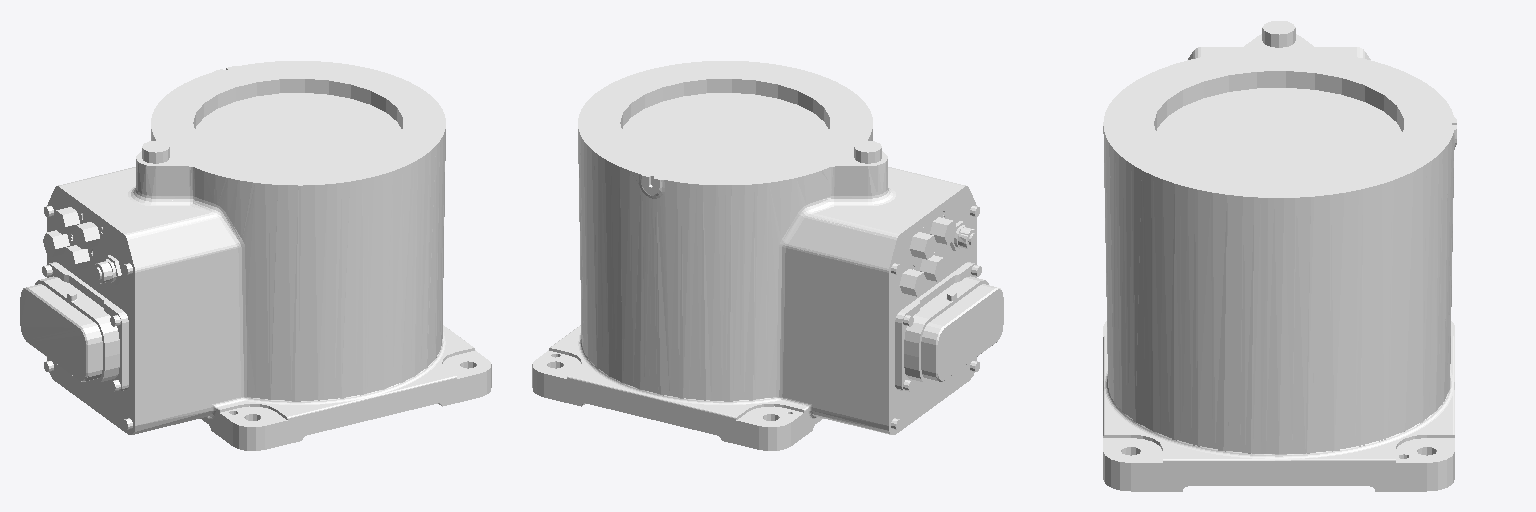
URDF robot description (rokae2):
<robot
  name="rokae2">
  <link
    name="base_link">
    <inertial>
      <origin
        xyz="-0.02477 8.8316E-06 0.080676"
        rpy="0 0 0" />
      <mass
        value="5.925" />
      <inertia
        ixx="0"
        ixy="0"
        ixz="0"
        iyy="0"
        iyz="0"
        izz="0" />
    </inertial>
    <visual>
      <origin
        xyz="0 0 0"
        rpy="0 0 0" />
      <geometry>
        <mesh
          filename="package://rokae2/meshes/base_link.STL" />
      </geometry>
      <material
        name="">
        <color
          rgba="1 1 1 1" />
      </material>
    </visual>
    <collision>
      <origin
        xyz="0 0 0"
        rpy="0 0 0" />
      <geometry>
        <mesh
          filename="package://rokae2/meshes/base_link.STL" />
      </geometry>
    </collision>
  </link>
</robot>

--- Facts derived from the render (not from the file) ---
3 views of the same robot in one strip: view 1: azimuth 30°, elevation 25°; view 2: azimuth 150°, elevation 25°; view 3: azimuth 270°, elevation 25° (orthographic).
Model rokae2 with 1 links and 0 joints (none), rooted at base_link, posed every joint at zero.
Visible links, largest first — view 1: base_link; view 2: base_link; view 3: base_link.
Boxes of the visible links, <box> form: base_link: <box>20,61,491,450</box>; base_link: <box>532,61,1003,450</box>; base_link: <box>1103,21,1456,491</box>.
Size in the robot's own frame: 0.2772 by 0.191 by 0.183 metres.
Meshes: 1 distinct files referenced, 1 mesh visuals loaded (1 binary STL).
